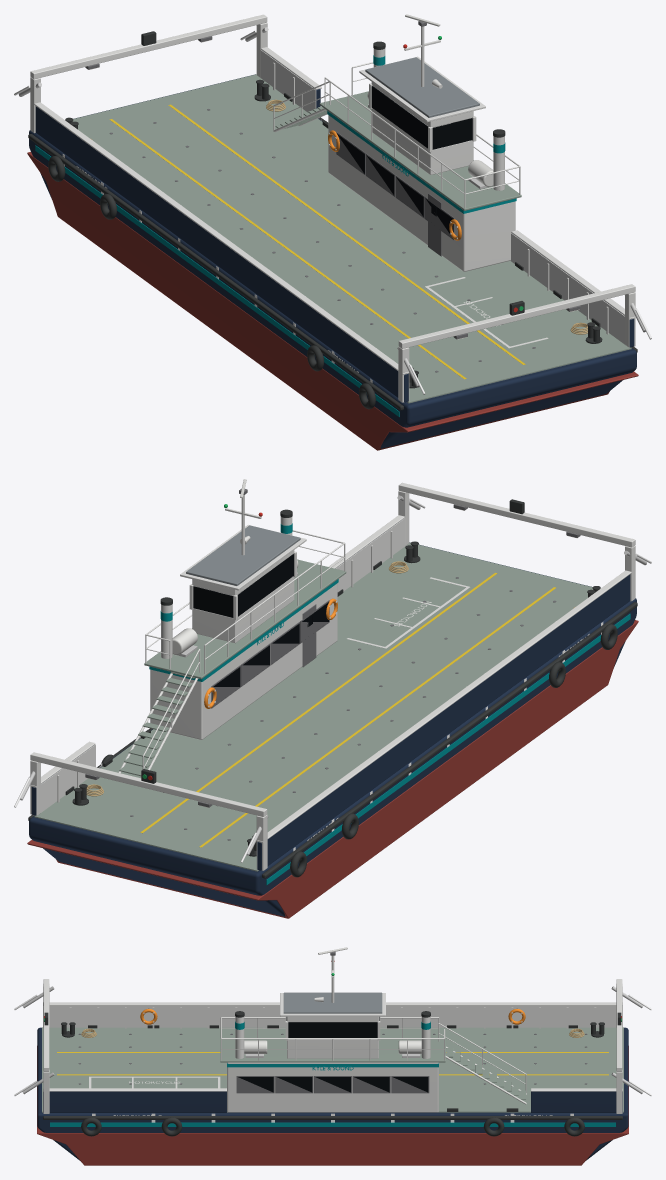
File: water.ferry.small.glb
3 renders of one model, top to bottom at view 1: azimuth 30°, elevation 25°; view 2: azimuth 150°, elevation 25°; view 3: azimuth 270°, elevation 25°, orthographic. The views are drawn at different scales.
Parts seen in each view (by area): view 1: main__paint_9a9, main__paint_eed, main__paint_235, main__paint_943, main__paint_333, main__glass_dark, main__paint_889, main__paint_099, main__galv_777, main__paint_ec3; view 2: main__paint_9a9, main__paint_eed, main__paint_235, main__paint_943, main__paint_333, main__glass_dark, main__paint_889, main__paint_099, main__galv_777, main__paint_ec3; view 3: main__paint_eed, main__paint_9a9, main__paint_943, main__paint_235, main__paint_333, main__paint_099, main__glass_dark, main__galv_777, main__paint_889, main__paint_ec3, main__paint_ddd, main__galv_ccc.
Part boxes in pixels (x1,y1,x2,y2): main__paint_9a9: [72, 74, 631, 403]; main__paint_eed: [30, 14, 635, 402]; main__paint_235: [29, 74, 636, 448]; main__paint_943: [27, 152, 638, 450]; main__paint_333: [28, 31, 637, 410]; main__glass_dark: [337, 86, 472, 237]; main__paint_889: [365, 57, 479, 117]; main__paint_099: [35, 55, 516, 416]; main__galv_777: [85, 21, 580, 372]; main__paint_ec3: [109, 104, 525, 379]; main__paint_9a9: [34, 542, 593, 871]; main__paint_eed: [30, 482, 635, 870]; main__paint_235: [29, 542, 636, 916]; main__paint_943: [27, 620, 638, 918]; main__paint_333: [28, 499, 637, 878]; main__glass_dark: [193, 554, 329, 700]; main__paint_889: [186, 525, 300, 585]; main__paint_099: [149, 523, 630, 885]; main__galv_777: [85, 489, 580, 840]; main__paint_ec3: [140, 572, 556, 847]; main__paint_eed: [43, 955, 622, 1115]; main__paint_9a9: [42, 1027, 623, 1112]; main__paint_943: [37, 1046, 628, 1165]; main__paint_235: [37, 1027, 628, 1160]; main__paint_333: [43, 1011, 622, 1136]; main__paint_099: [50, 1021, 615, 1126]; main__glass_dark: [238, 1017, 428, 1092]; main__galv_777: [78, 951, 587, 1093]; main__paint_889: [283, 992, 382, 1013]; main__paint_ec3: [57, 1052, 608, 1075]; main__paint_ddd: [244, 947, 421, 1054]; main__galv_ccc: [22, 986, 643, 1094].
Size of the model in its own units: 9.7 by 9.87 by 27.73.
